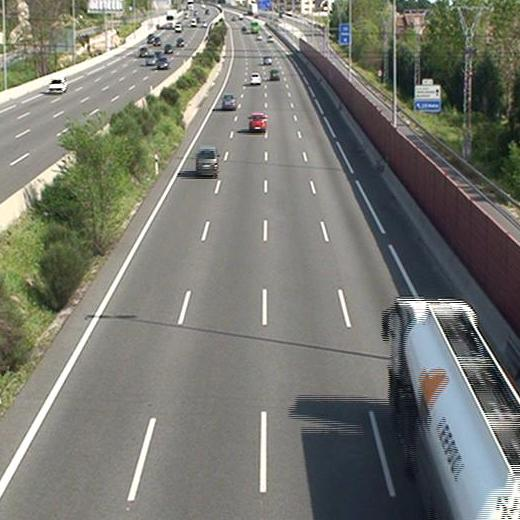car: (195, 148, 219, 176), (249, 113, 267, 133), (221, 94, 237, 109), (250, 71, 261, 85), (269, 69, 279, 80), (263, 55, 272, 65)
tank-truck: (385, 298, 520, 519)
